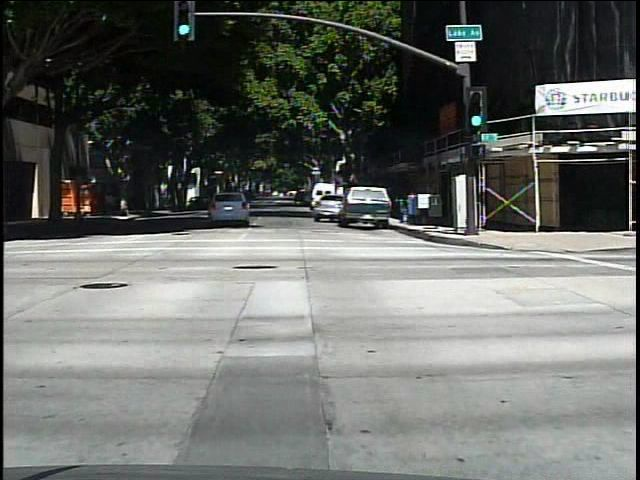person: (99, 185, 115, 219)
